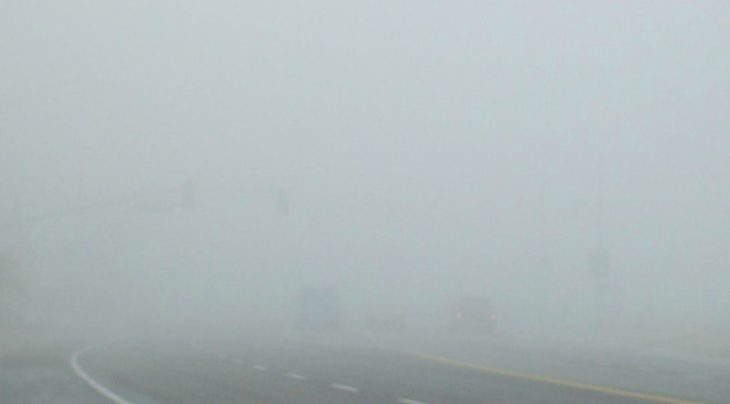car: (447, 294, 497, 335), (365, 300, 405, 331)
truck: (292, 279, 346, 334)
